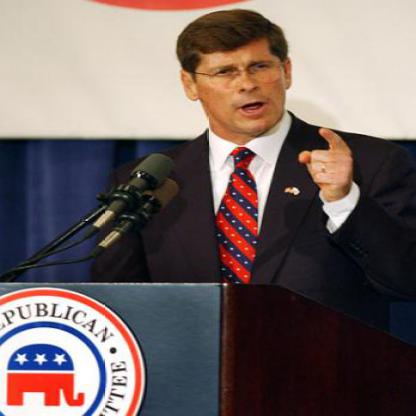face: (193, 20, 290, 136)
